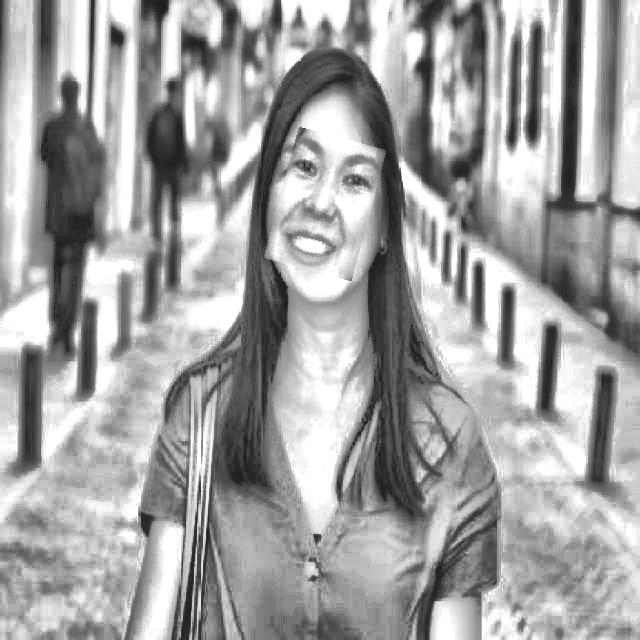happy: (271, 132, 378, 276)
